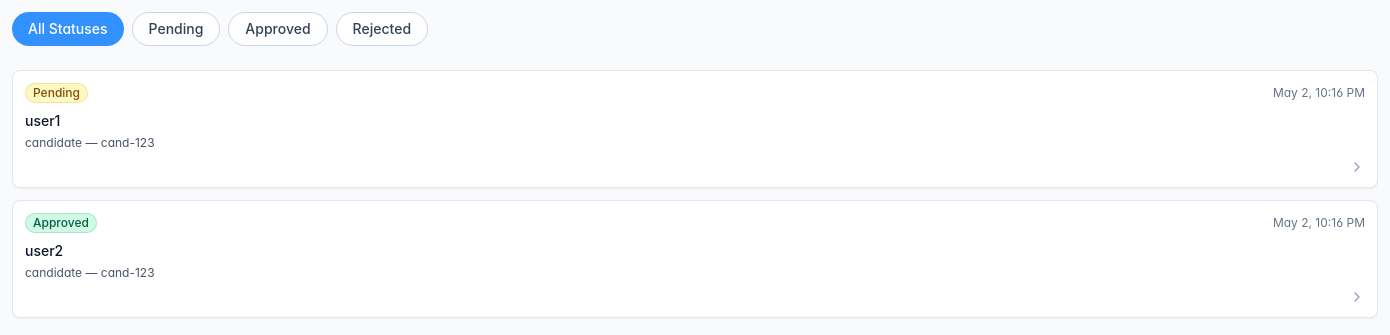
Test: ApprovalCardList › filters to approved approvals when approved chip is clicked
Click the button "Approved" at (278, 29), box [228,12,328,46]
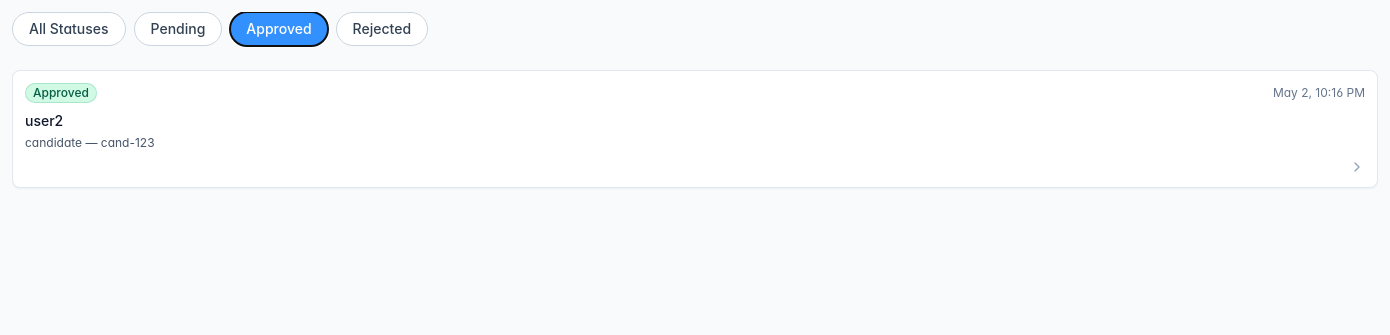
Expected: the text with test id "approval-card-submitter" reads "user2", [25,112,63,129]
Expected: the number of buttons with test id "approval-card" is 1, [12,70,1378,188]
